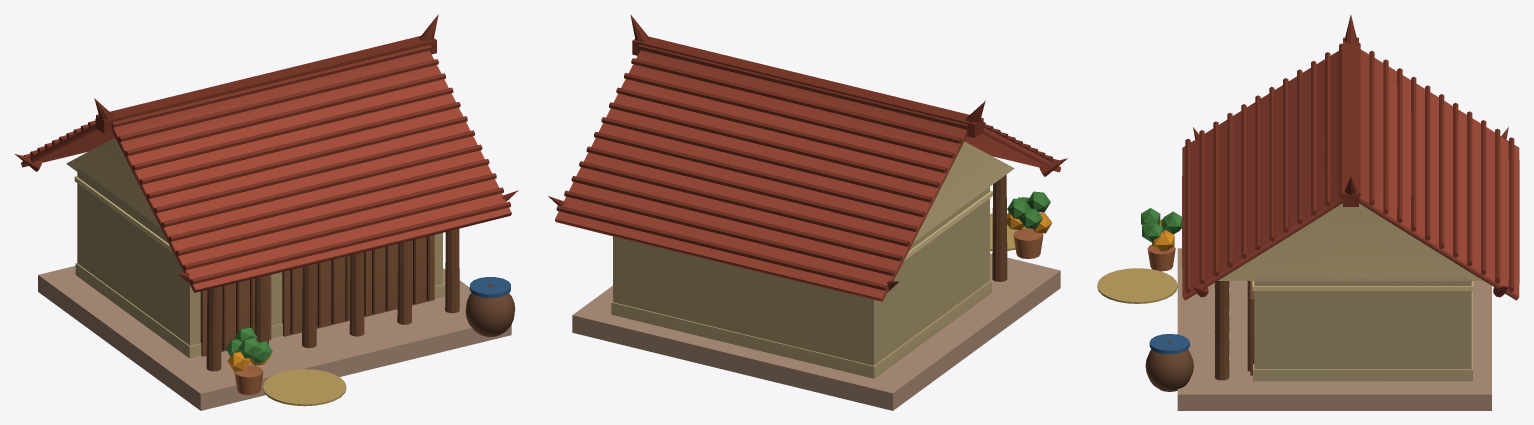
The picture shows the model from 3 angles, left to right: view 1: azimuth 30°, elevation 25°; view 2: azimuth 150°, elevation 25°; view 3: azimuth 270°, elevation 25°; orthographic projection. The views are drawn at different scales.
Bounding box in the file's own units: 9.53 × 6.65 × 10.49.
